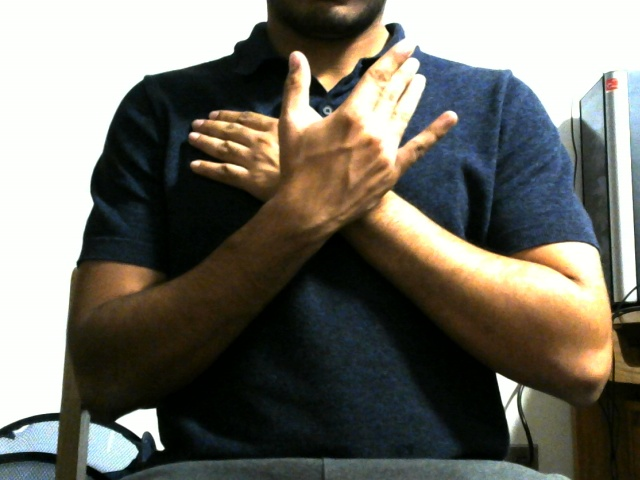blood: (140, 34, 483, 277)
